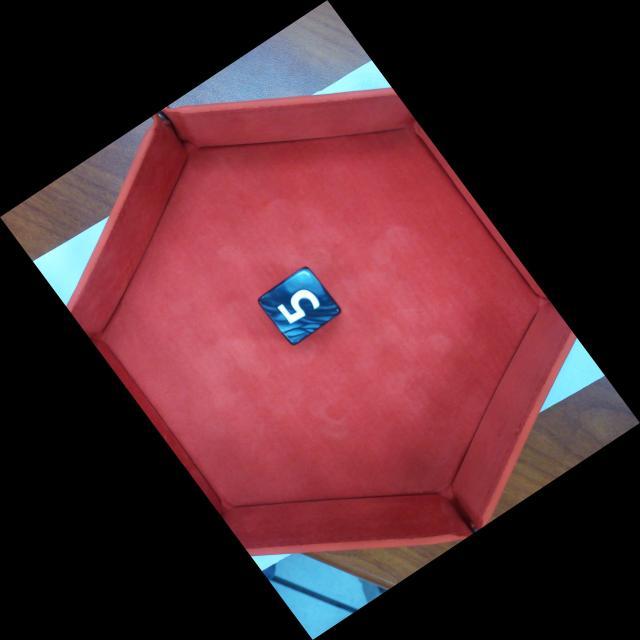dice: (256, 265, 342, 347)
